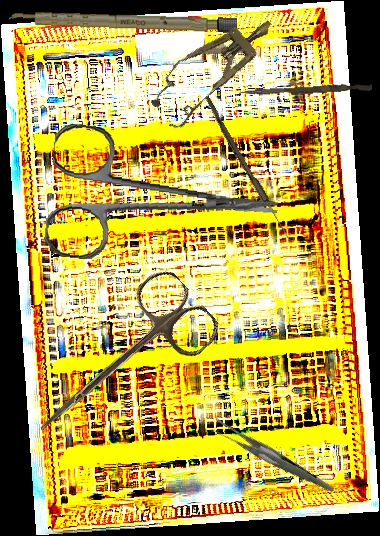Dressing Forceps: (207, 392, 335, 524)
Iris Scissors: (13, 262, 226, 467), (42, 122, 285, 279)
Pusher: (238, 81, 373, 100)
Scalpel Handle: (8, 10, 238, 33)
Speculum: (141, 1, 288, 134)
Surgical Spoon: (201, 96, 294, 242)
